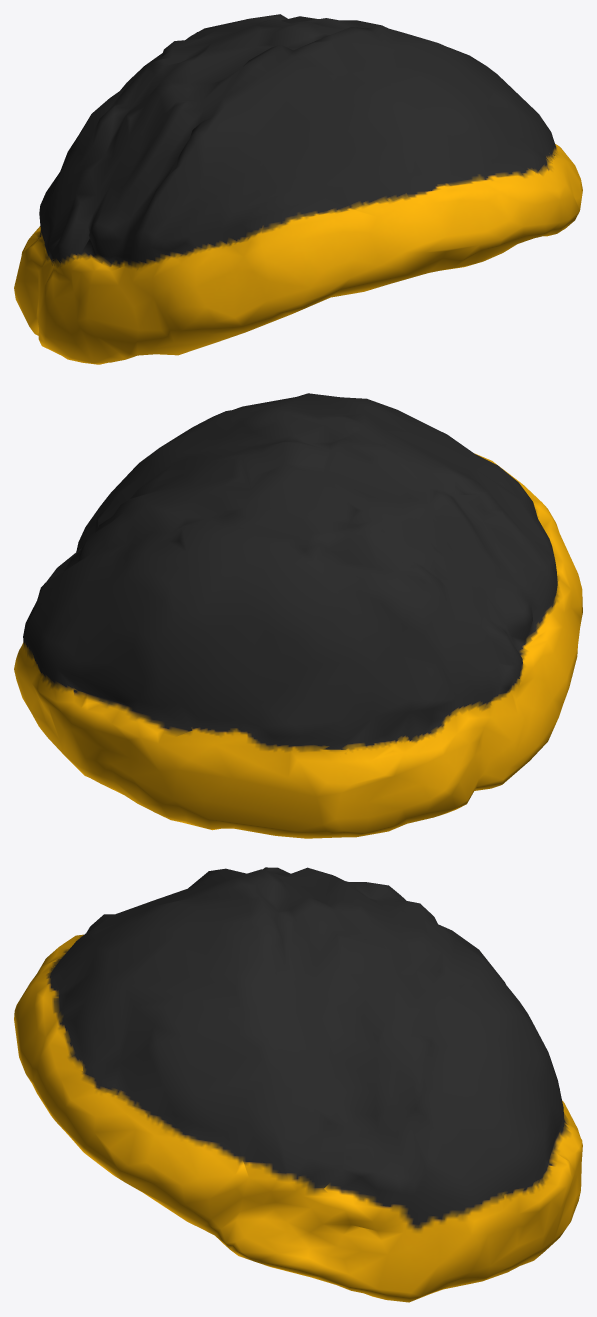
The model's file is knit pittsburgh.glb.
The picture shows the model from 3 angles, top to bottom: view 1: azimuth 30°, elevation 25°; view 2: azimuth 150°, elevation 25°; view 3: azimuth 270°, elevation 25°; orthographic projection. The views are drawn at different scales.
Visible parts, largest first — view 1: hat_knit_pittsburgh.001; view 2: hat_knit_pittsburgh.001; view 3: hat_knit_pittsburgh.001.
Boxes of the visible parts, <box> form: hat_knit_pittsburgh.001: <box>14,14,582,364</box>; hat_knit_pittsburgh.001: <box>14,393,582,838</box>; hat_knit_pittsburgh.001: <box>14,867,582,1302</box>.
Size of the model in its own units: 0.3707 by 0.2295 by 0.3544.
Materials: 1 (1 with a texture image).
